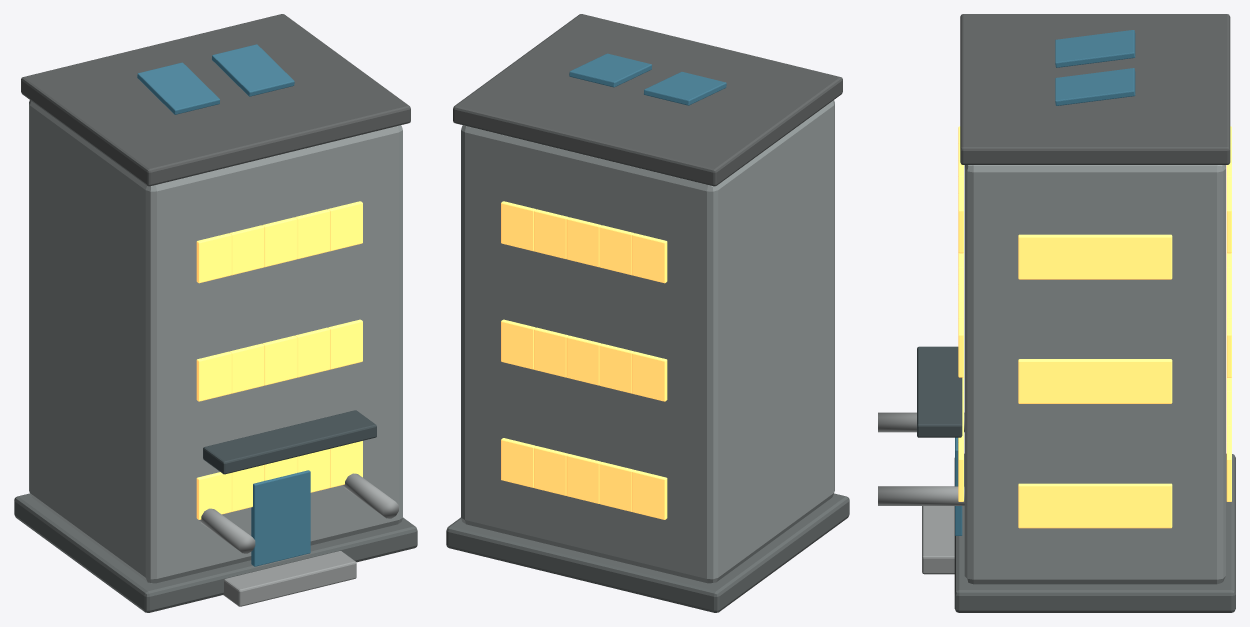
The model's file is civic_library.glb.
The picture shows the model from 3 angles, left to right: view 1: azimuth 30°, elevation 25°; view 2: azimuth 150°, elevation 25°; view 3: azimuth 270°, elevation 25°; orthographic projection. The views are drawn at different scales.
Parts seen in each view (by area): view 1: main_massing, roof_slab, foundation, civic_canopy, civic_entrance, civic_steps, roof_panel.001, roof_panel, front_window.005, front_window.010, front_window.006, front_window.007 (+13 smaller); view 2: main_massing, roof_slab, foundation, roof_panel.001, roof_panel, rear_window.005, rear_window.010, rear_window, rear_window.006, rear_window.007, rear_window.012, rear_window.002 (+8 smaller); view 3: main_massing, roof_slab, foundation, civic_canopy, roof_panel.001, roof_panel, civic_steps, side_window, side_window.003, side_window.008, side_window.011, side_window.007 (+9 smaller).
Part boxes in pixels (x1=…): main_massing: x1=29, y1=100, x2=402, y2=583; roof_slab: x1=21, y1=14, x2=410, y2=186; foundation: x1=14, y1=493, x2=417, y2=612; civic_canopy: x1=203, y1=410, x2=376, y2=474; civic_entrance: x1=251, y1=470, x2=310, y2=566; civic_steps: x1=223, y1=551, x2=356, y2=606; roof_panel.001: x1=212, y1=44, x2=294, y2=96; roof_panel: x1=137, y1=62, x2=219, y2=114; front_window.005: x1=196, y1=351, x2=231, y2=401; front_window.010: x1=196, y1=233, x2=231, y2=283; front_window.006: x1=229, y1=343, x2=264, y2=393; front_window.007: x1=262, y1=335, x2=297, y2=385; main_massing: x1=461, y1=100, x2=834, y2=583; roof_slab: x1=453, y1=14, x2=842, y2=186; foundation: x1=446, y1=493, x2=849, y2=612; roof_panel.001: x1=569, y1=53, x2=652, y2=87; roof_panel: x1=644, y1=71, x2=726, y2=105; rear_window.005: x1=632, y1=351, x2=667, y2=401; rear_window.010: x1=632, y1=233, x2=667, y2=283; rear_window: x1=632, y1=470, x2=667, y2=519; rear_window.006: x1=599, y1=343, x2=634, y2=393; rear_window.007: x1=566, y1=335, x2=601, y2=385; rear_window.012: x1=566, y1=217, x2=601, y2=267; rear_window.002: x1=566, y1=454, x2=600, y2=503; main_massing: x1=964, y1=165, x2=1225, y2=584; roof_slab: x1=960, y1=14, x2=1230, y2=164; foundation: x1=954, y1=453, x2=1235, y2=612; civic_canopy: x1=917, y1=346, x2=962, y2=437; roof_panel.001: x1=1055, y1=68, x2=1135, y2=105; roof_panel: x1=1055, y1=30, x2=1135, y2=67; civic_steps: x1=922, y1=506, x2=954, y2=574; side_window: x1=1133, y1=483, x2=1172, y2=528; side_window.003: x1=1018, y1=483, x2=1057, y2=528; side_window.008: x1=1133, y1=234, x2=1172, y2=279; side_window.011: x1=1018, y1=234, x2=1057, y2=279; side_window.007: x1=1018, y1=359, x2=1057, y2=403.
Size of the model in its own units: 1.32 by 2.13 by 1.42.
